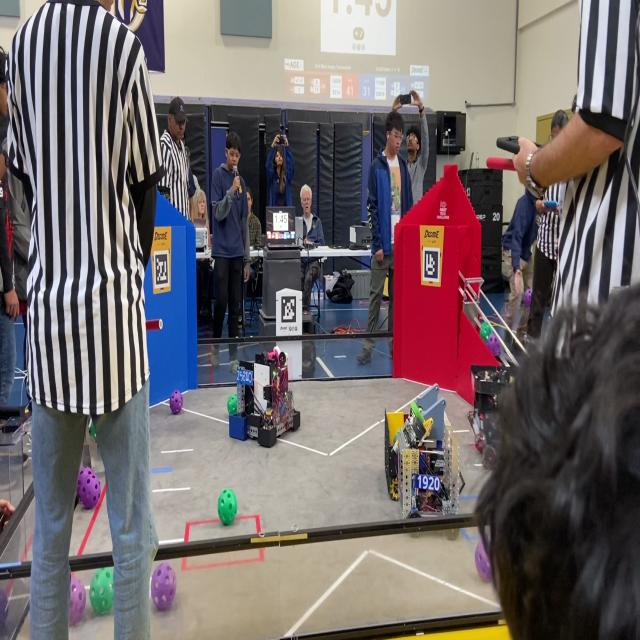artifact_green: (89, 567, 114, 616), (218, 488, 238, 526), (411, 401, 424, 424), (480, 322, 492, 342), (227, 394, 238, 415), (90, 421, 96, 443), (393, 430, 399, 445), (273, 371, 277, 378), (419, 406, 423, 413)
artifact_purple: (151, 562, 176, 610), (77, 467, 100, 509), (69, 576, 86, 626), (475, 541, 491, 583), (77, 466, 94, 498), (487, 333, 501, 357), (169, 390, 182, 414), (0, 590, 8, 628), (523, 289, 531, 308)
